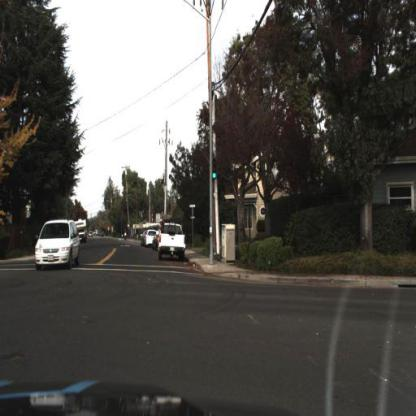car: (33, 212, 83, 269), (154, 221, 190, 258), (144, 224, 157, 253)
trafficLight-Green: (210, 158, 220, 189), (211, 158, 219, 187)
truck: (78, 209, 96, 243)
